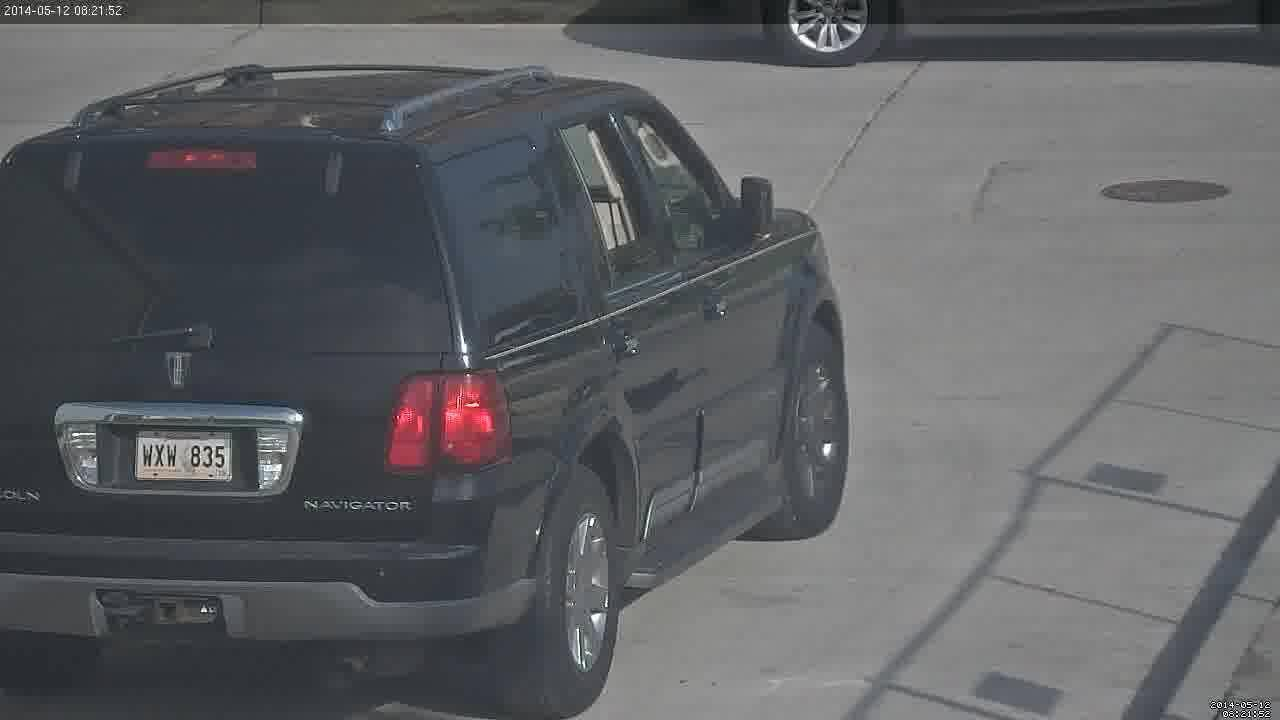placa de veiculo: (106, 422, 270, 509)
